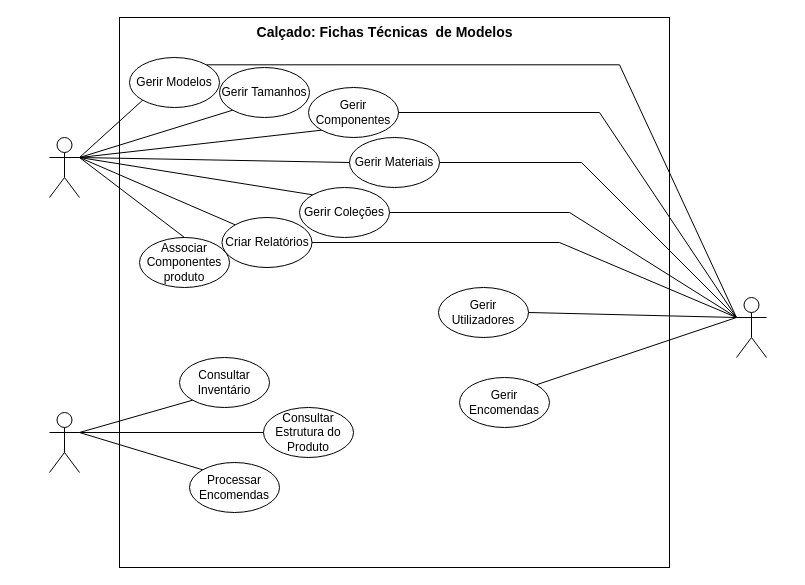
The diagram is 805 pixels wide and 585 high, and some of its shapes have lost their labels. The shapes that lost their labels are listed below. From the top down, each one's box as (x1, y1, x2, y2) in pixels, then its label:
(48, 136, 80, 198): Gestor de Projeto
(736, 296, 766, 358): Administrador
(48, 412, 80, 472): Funcionário
